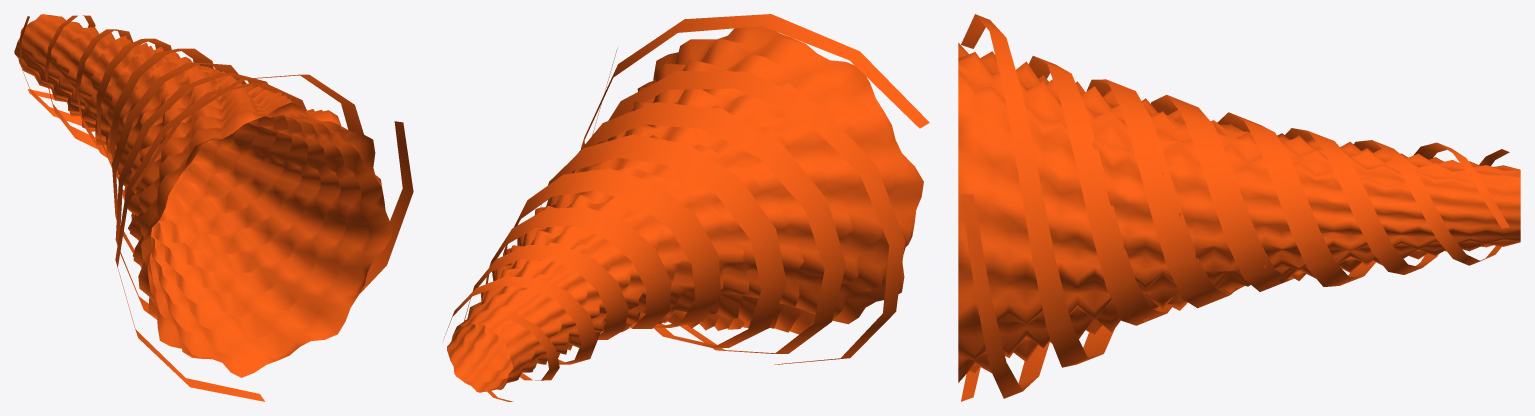
The model's file is SM_FX_FireTornado.obj.
3 renders of one model, left to right at view 1: azimuth 30°, elevation 25°; view 2: azimuth 150°, elevation 25°; view 3: azimuth 270°, elevation 25°, orthographic. The views are drawn at different scales.
Visible parts, largest first — view 1: SM_FX_FireTornado; view 2: SM_FX_FireTornado; view 3: SM_FX_FireTornado.
Part boxes in pixels (left/top/right/bottom): SM_FX_FireTornado: left=14, top=14, right=413, bottom=401; SM_FX_FireTornado: left=443, top=14, right=929, bottom=401; SM_FX_FireTornado: left=958, top=14, right=1520, bottom=401.
Size of the model in its own units: 650 by 684 by 950.
